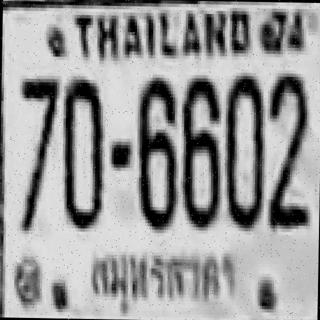N00: (60, 76, 105, 225), (222, 74, 264, 226)
N02: (266, 71, 308, 208)
N06: (136, 74, 178, 226), (180, 75, 220, 224)
N07: (18, 75, 57, 224), (18, 75, 57, 186), (18, 75, 57, 172)
P58: (83, 240, 244, 316)
